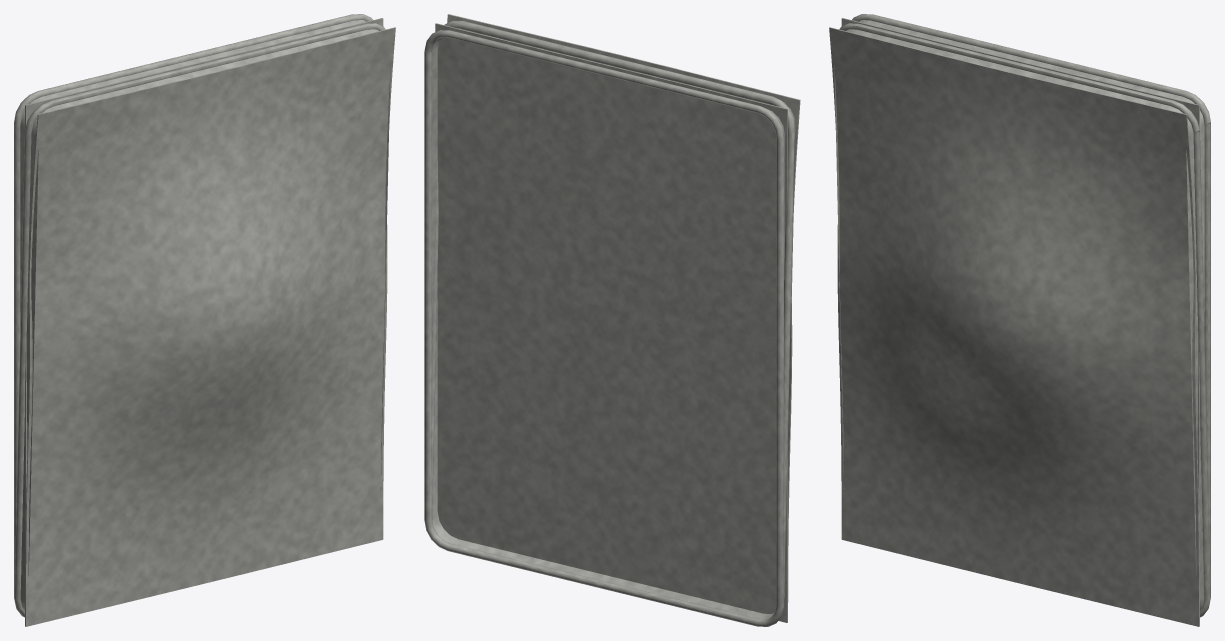
File: cookie_sheet.glb
3 views of the same model, side by side, from view 1: azimuth 30°, elevation 25°; view 2: azimuth 150°, elevation 25°; view 3: azimuth 330°, elevation 25° (orthographic).
Visible parts, largest first — view 1: CookieSheet_Dented_sheet, CookieSheet_Clean_sheet; view 2: CookieSheet_Clean_sheet, CookieSheet_Dented_sheet; view 3: CookieSheet_Dented_sheet, CookieSheet_Clean_sheet.
Boxes of the visible parts, box(x1,y1,x2,y2) form: CookieSheet_Dented_sheet: box(14, 23, 395, 626); CookieSheet_Clean_sheet: box(14, 14, 383, 626); CookieSheet_Clean_sheet: box(424, 23, 787, 626); CookieSheet_Dented_sheet: box(431, 14, 800, 619); CookieSheet_Dented_sheet: box(829, 23, 1210, 626); CookieSheet_Clean_sheet: box(841, 14, 1210, 626).
Bounding box in the file's own units: 0.3364 × 0.4664 × 0.0608.
1 material, 1 textured.
